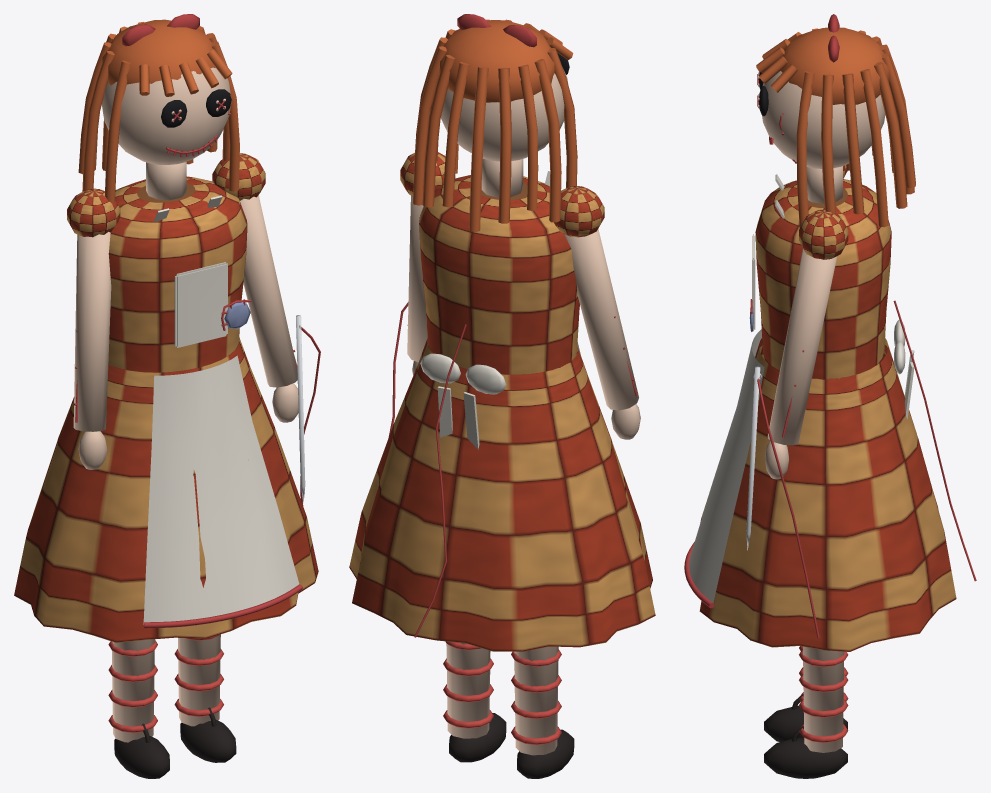
The model's file is stitched_doll.glb.
The picture shows the model from 3 angles, left to right: view 1: azimuth 30°, elevation 25°; view 2: azimuth 150°, elevation 25°; view 3: azimuth 270°, elevation 25°; orthographic projection. The views are drawn at different scales.
Parts seen in each view (by area): view 1: Doll_Root_Gingham, Doll_Root_Apron, Head_YarnHair, Head_RagSkin, ArmA_RagSkin, ArmB_RagSkin, LegLegA, LegLegB, PuffArmA, LegB_MaryJane, LegA_MaryJane, PuffArmB (+6 smaller); view 2: Doll_Root_Gingham, Head_YarnHair, ArmA_RagSkin, Head_RagSkin, LegLegA, Tail_Apron, LegLegB, ArmB_RagSkin, PuffArmA, LegB_MaryJane, LegA_MaryJane, LegA_StockingRed (+4 smaller); view 3: Doll_Root_Gingham, Head_YarnHair, ArmB_RagSkin, Doll_Root_Apron, Head_RagSkin, LegLegB, LegB_MaryJane, PuffArmB, LegB_StockingRed, LegA_MaryJane, ArmB_NeedleSteel, ArmB_Thread (+3 smaller).
Boxes of the visible parts, bbox=[...] form: Doll_Root_Gingham: bbox=[14, 176, 318, 642]; Doll_Root_Apron: bbox=[143, 195, 299, 624]; Head_YarnHair: bbox=[78, 19, 239, 204]; Head_RagSkin: bbox=[102, 67, 231, 200]; ArmA_RagSkin: bbox=[73, 232, 111, 469]; ArmB_RagSkin: bbox=[240, 195, 298, 422]; LegLegA: bbox=[111, 639, 154, 742]; LegLegB: bbox=[178, 634, 220, 726]; PuffArmA: bbox=[67, 188, 120, 237]; LegB_MaryJane: bbox=[180, 707, 236, 762]; LegA_MaryJane: bbox=[114, 723, 169, 778]; PuffArmB: bbox=[212, 153, 265, 200]; Doll_Root_Gingham: bbox=[349, 175, 655, 651]; Head_YarnHair: bbox=[413, 19, 577, 231]; ArmA_RagSkin: bbox=[564, 229, 640, 439]; Head_RagSkin: bbox=[441, 69, 568, 197]; LegLegA: bbox=[514, 646, 558, 755]; Tail_Apron: bbox=[420, 353, 506, 449]; LegLegB: bbox=[446, 643, 490, 738]; ArmB_RagSkin: bbox=[407, 195, 427, 375]; PuffArmA: bbox=[554, 185, 604, 237]; LegB_MaryJane: bbox=[449, 713, 506, 762]; LegA_MaryJane: bbox=[517, 729, 574, 778]; LegA_StockingRed: bbox=[511, 649, 561, 744]; Doll_Root_Gingham: bbox=[699, 179, 956, 651]; Head_YarnHair: bbox=[756, 27, 915, 227]; ArmB_RagSkin: bbox=[765, 248, 836, 479]; Doll_Root_Apron: bbox=[689, 174, 784, 605]; Head_RagSkin: bbox=[758, 71, 885, 203]; LegLegB: bbox=[803, 646, 844, 752]; LegB_MaryJane: bbox=[764, 726, 847, 778]; PuffArmB: bbox=[799, 209, 848, 259]; LegB_StockingRed: bbox=[799, 649, 848, 742]; LegA_MaryJane: bbox=[764, 694, 847, 741]; ArmB_NeedleSteel: bbox=[746, 366, 761, 550]; ArmB_Thread: bbox=[757, 350, 819, 637].
Size of the model in its own units: 0.617 by 1.6 by 0.5767.
Materials: 10 (1 with a texture image).
